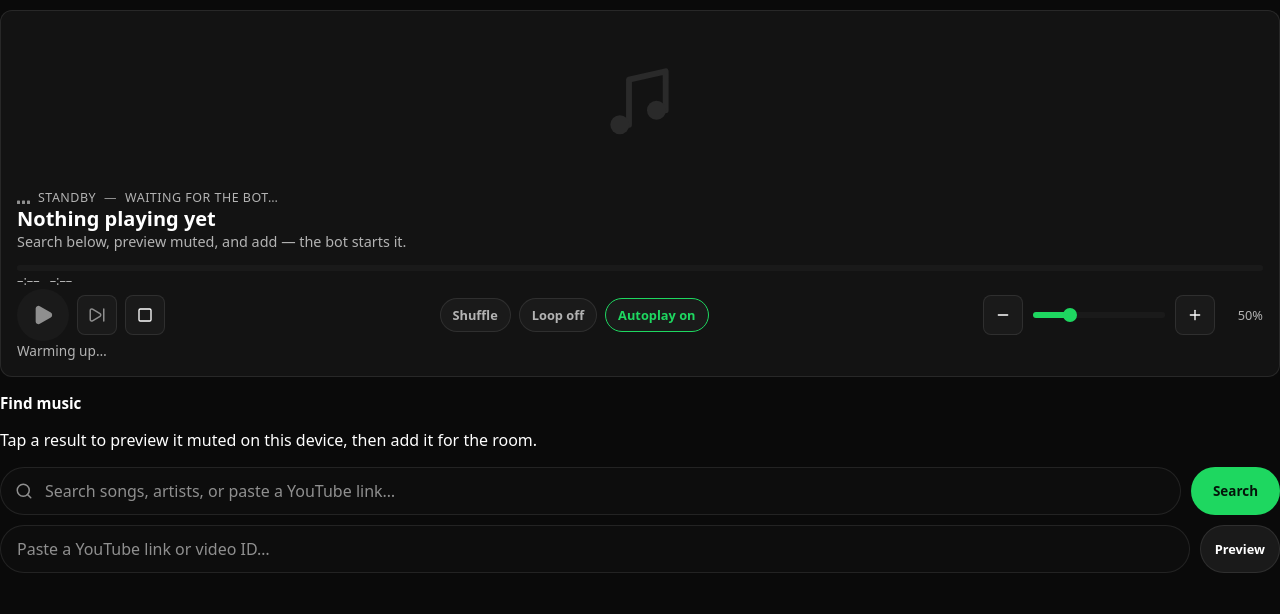
Test: search + audition (Checkpoint 4) › the audition player loads muted, unmutes on toggle, and queues the shown track
In the field labelled "Paste a YouTube link or video ID": {"x": 595, "y": 549} left=0, top=525, right=1190, bottom=573, type "ccccccccccc"
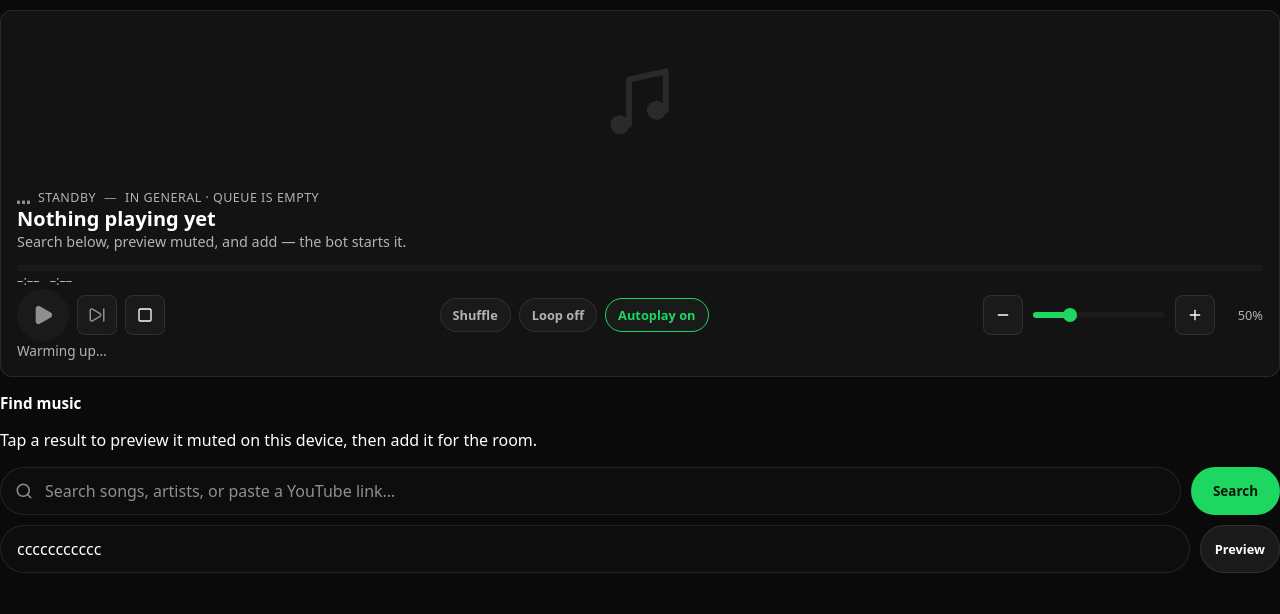
Click the button "Preview": {"x": 1240, "y": 549} left=1200, top=525, right=1279, bottom=573
(page scrolled)
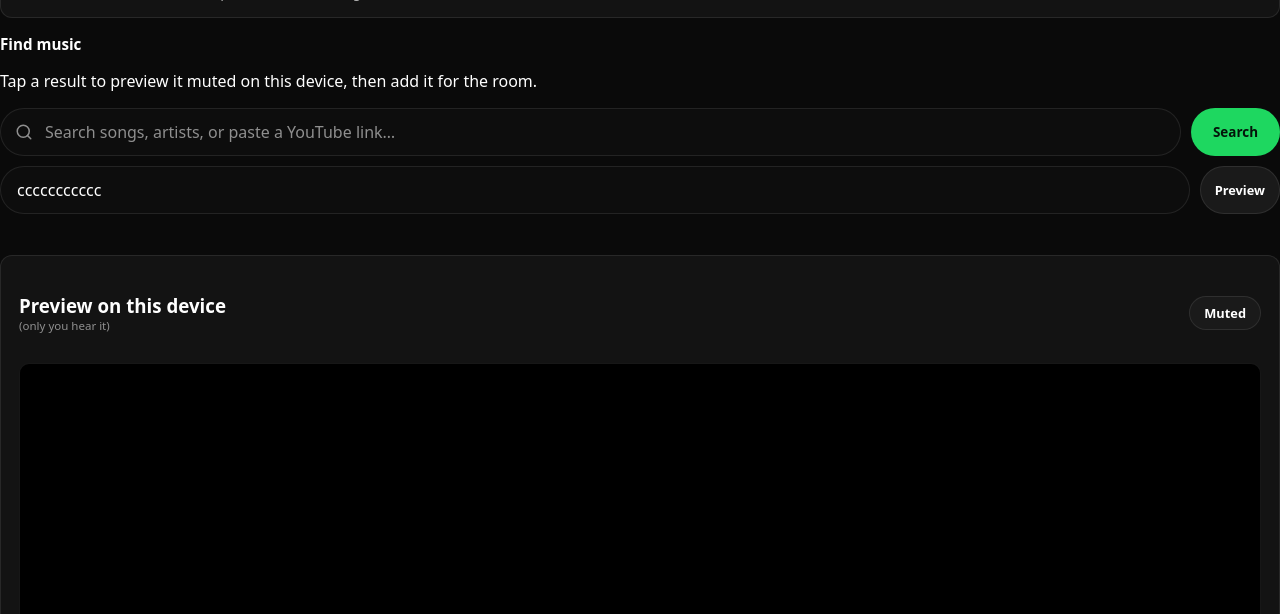
Click the button named "Unmute preview": {"x": 1225, "y": 313} left=1189, top=296, right=1261, bottom=330
(page scrolled)
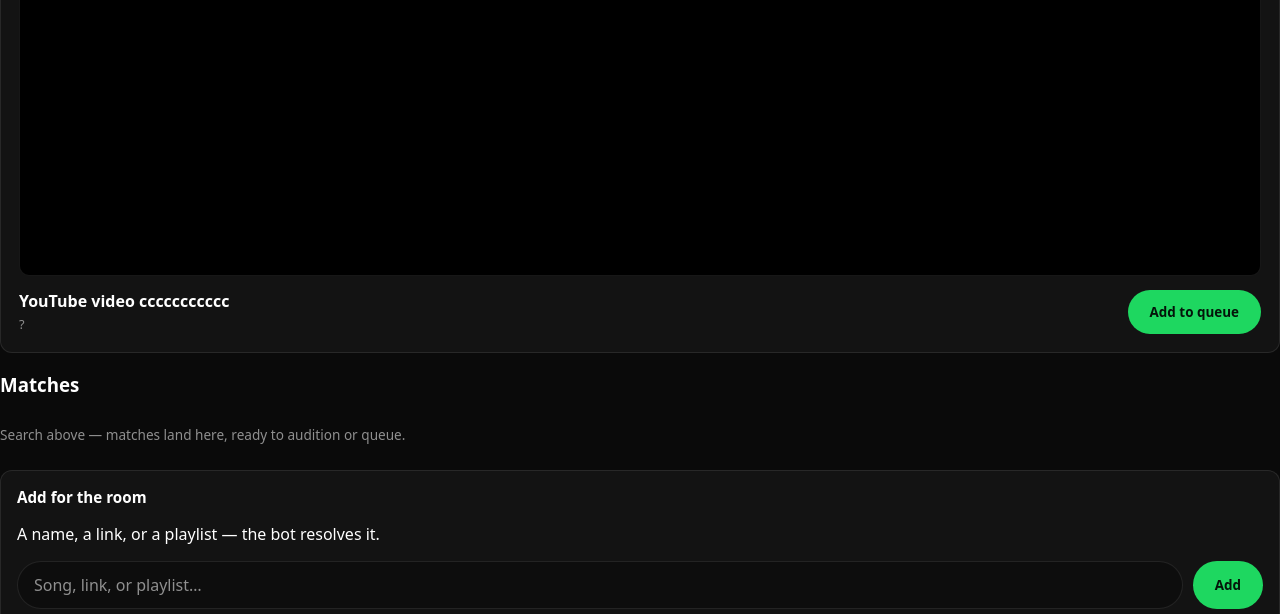
Click the button named "Add YouTube video ccccccccccc to the queue": {"x": 1194, "y": 312} left=1128, top=290, right=1261, bottom=334
(page scrolled)
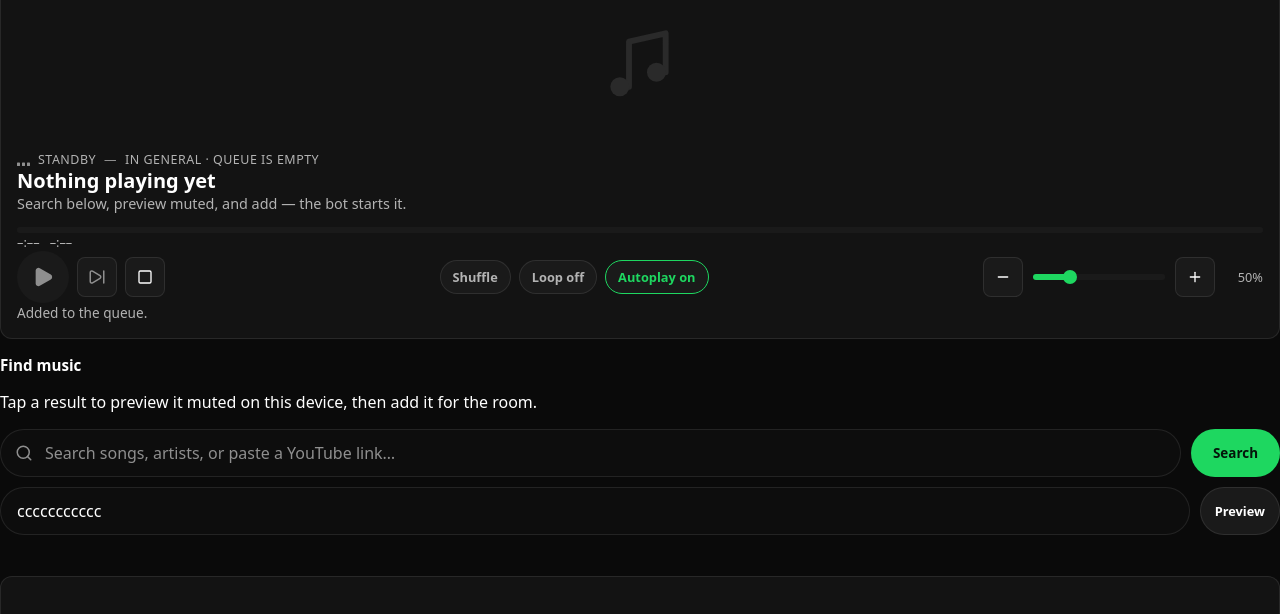
Expected: the text "Added to the queue." is shown, left=17, top=303, right=147, bottom=322
